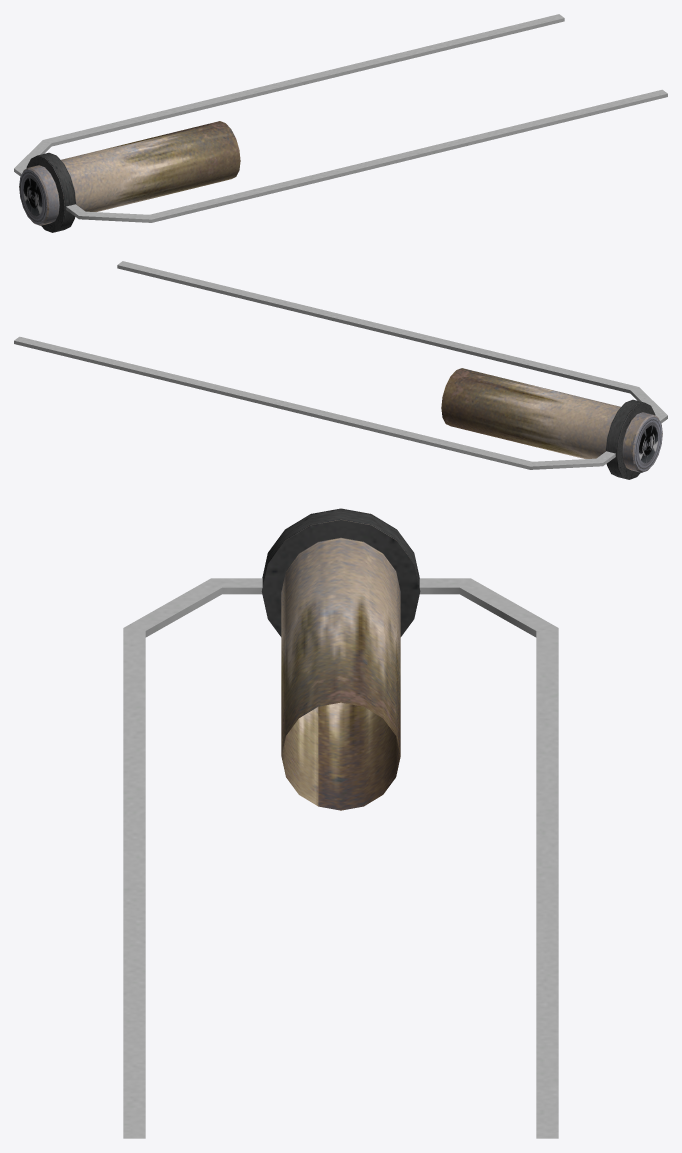
File: OBJ_Laser_Tube.FBX
3 views of the same model, one above another, from view 1: azimuth 30°, elevation 25°; view 2: azimuth 150°, elevation 25°; view 3: azimuth 270°, elevation 25° (orthographic). The views are drawn at different scales.
Visible parts, largest first — view 1: OBJ_Laser_Tube; view 2: OBJ_Laser_Tube; view 3: OBJ_Laser_Tube.
Boxes of the visible parts, bbox=[...] form: OBJ_Laser_Tube: bbox=[14, 14, 667, 232]; OBJ_Laser_Tube: bbox=[14, 261, 667, 479]; OBJ_Laser_Tube: bbox=[123, 508, 558, 1138].
Size of the model in its own units: 8.05 by 0.9518 by 2.61.
